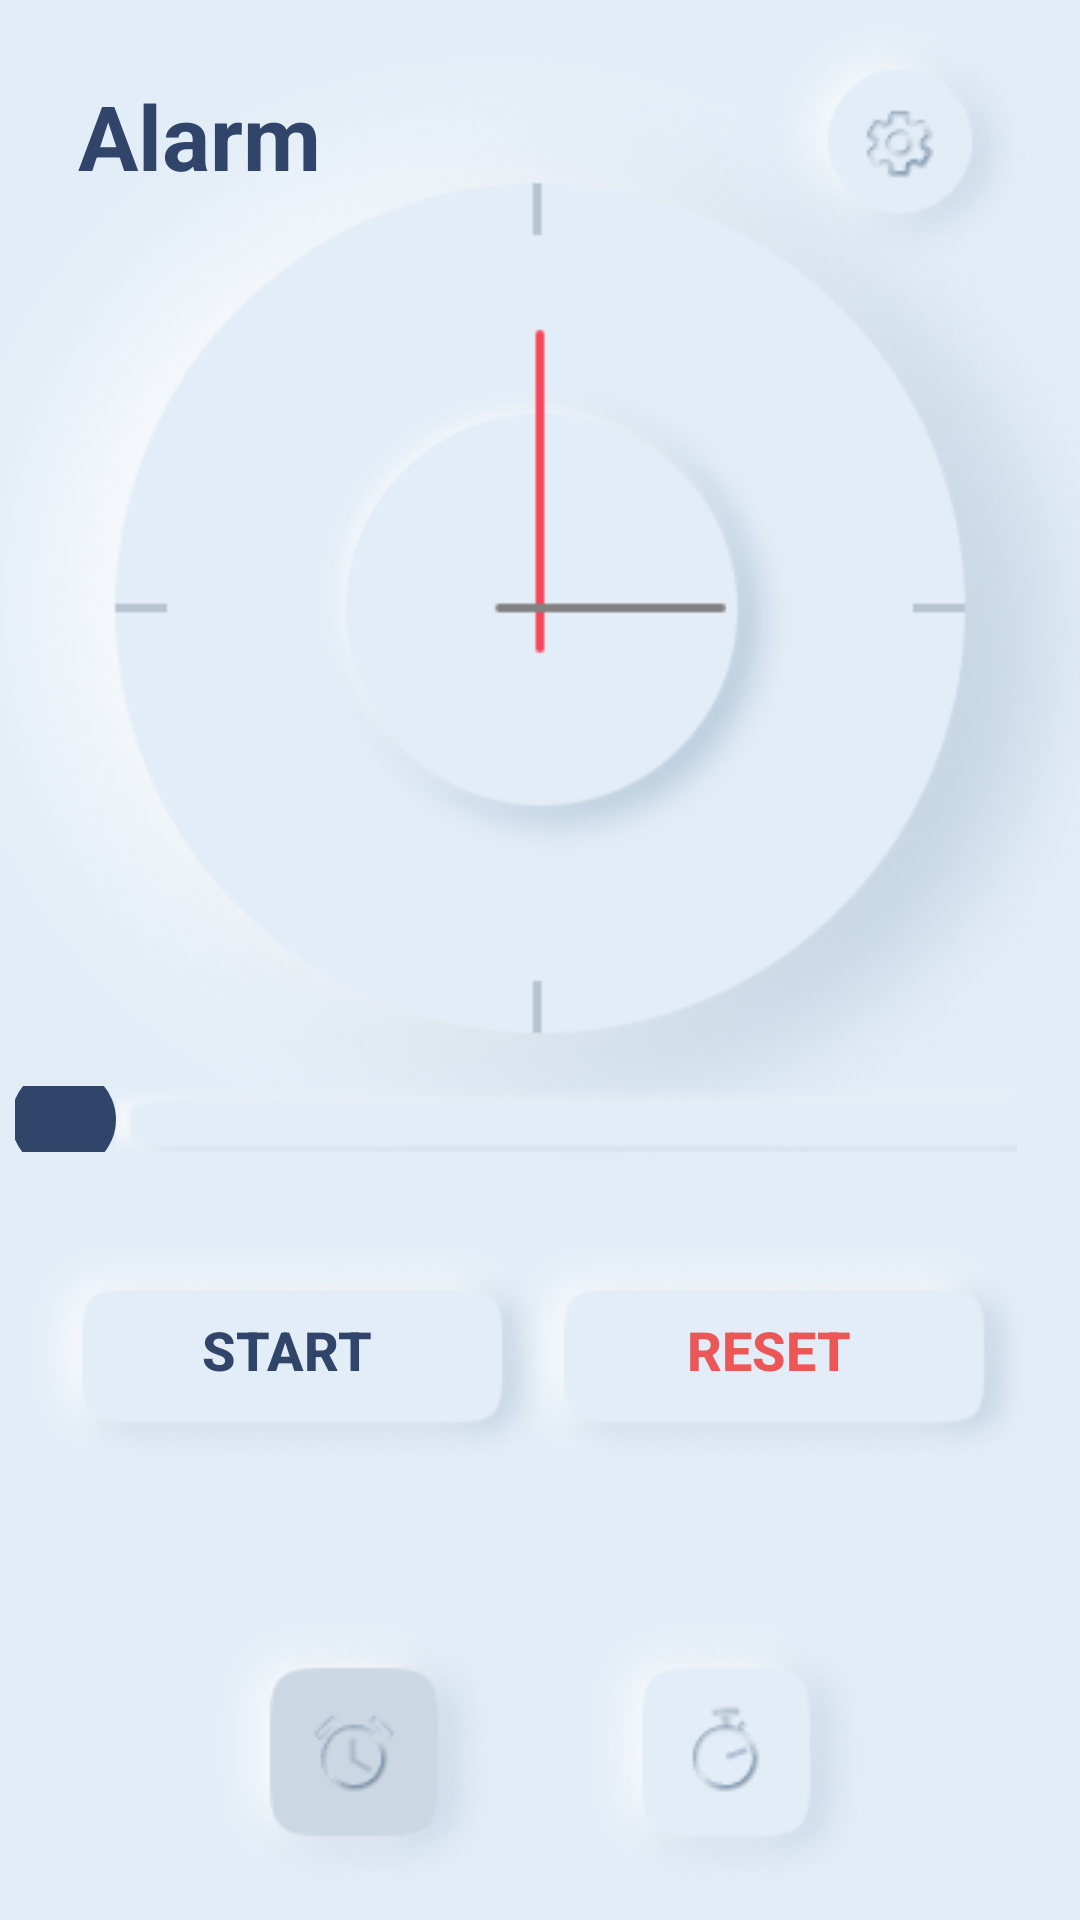

Icons on this 1080×1920 Android screen, each with the point to tap as point (x, y):
alarmicon: point (359, 1758)
settings: point (900, 143)
stopwatch: point (726, 1749)
